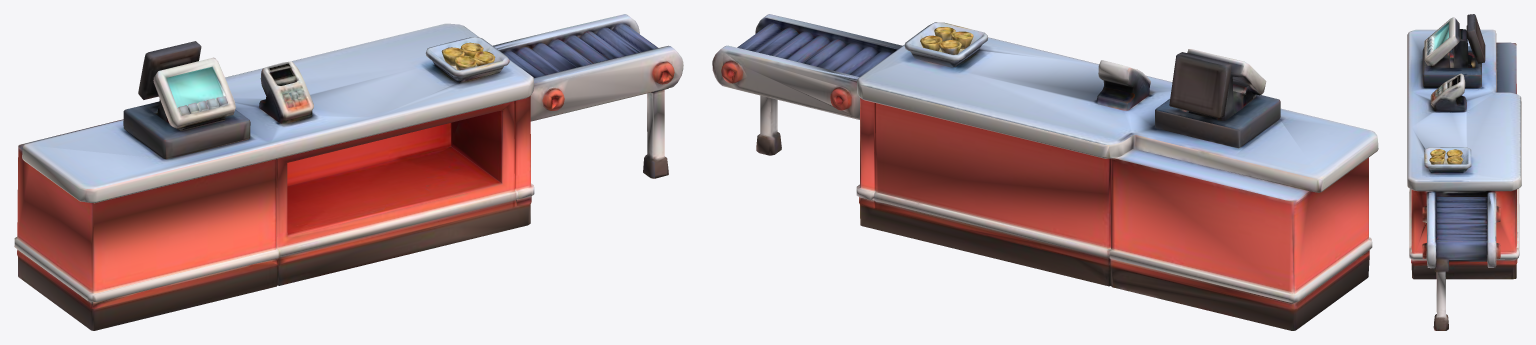
File: shouyintai.glb
3 views of the same model, side by side, from view 1: azimuth 30°, elevation 25°; view 2: azimuth 150°, elevation 25°; view 3: azimuth 270°, elevation 25° (orthographic). The views are drawn at different scales.
Parts seen in each view (by area): view 1: node_0; view 2: node_0; view 3: node_0.
Part boxes in pixels (x1,y1,x2,y2): node_0: [14, 14, 683, 330]; node_0: [712, 14, 1378, 330]; node_0: [1407, 14, 1521, 330].
Size of the model in its own units: 1.15 by 0.3966 by 0.2699.
1 material, 1 textured.
